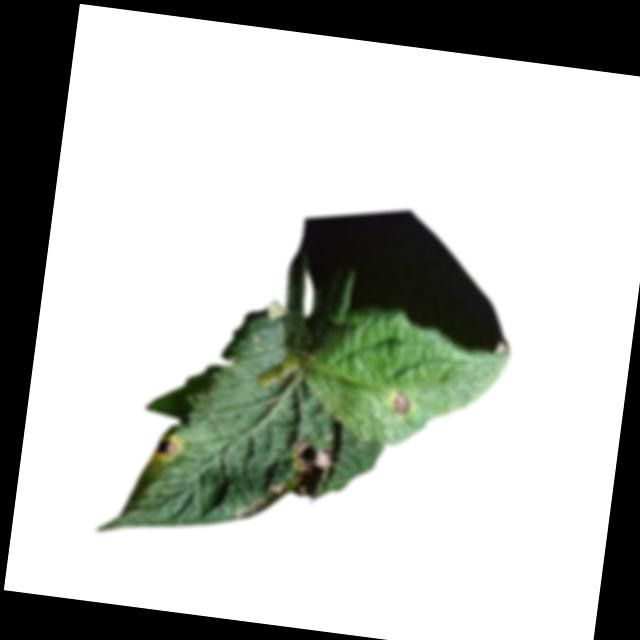Early_blight: (267, 435, 335, 505), (151, 433, 182, 463), (391, 389, 411, 417)
